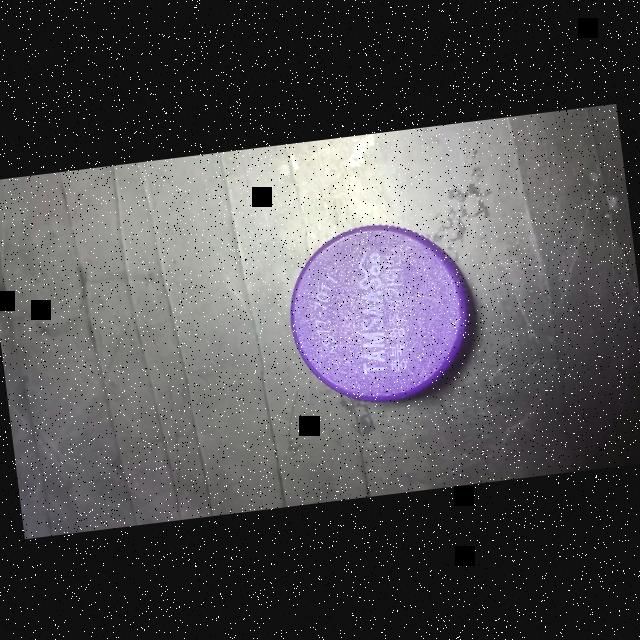plastic_bottle_cap: (276, 210, 484, 416)
